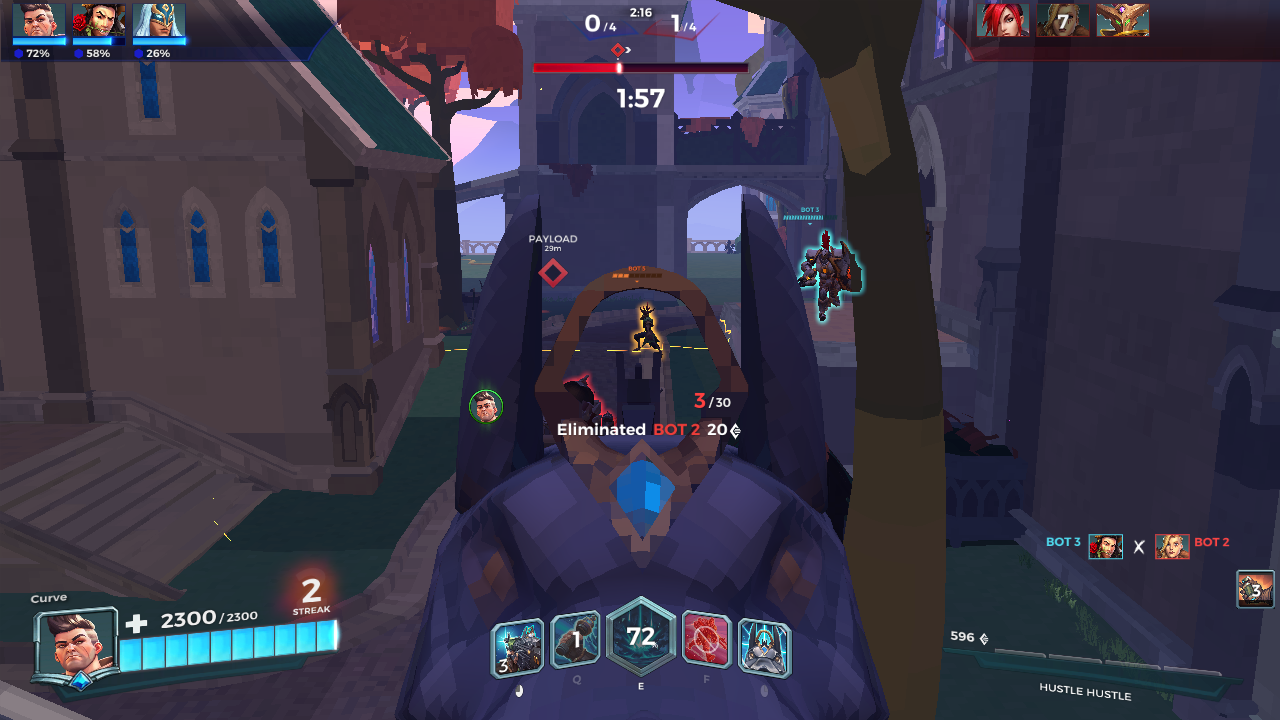model: (627, 306, 663, 355)
